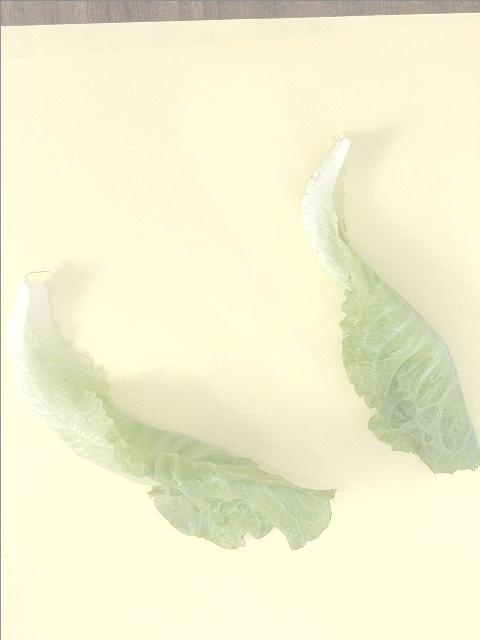lettuce: (5, 270, 340, 550), (300, 135, 480, 473)
